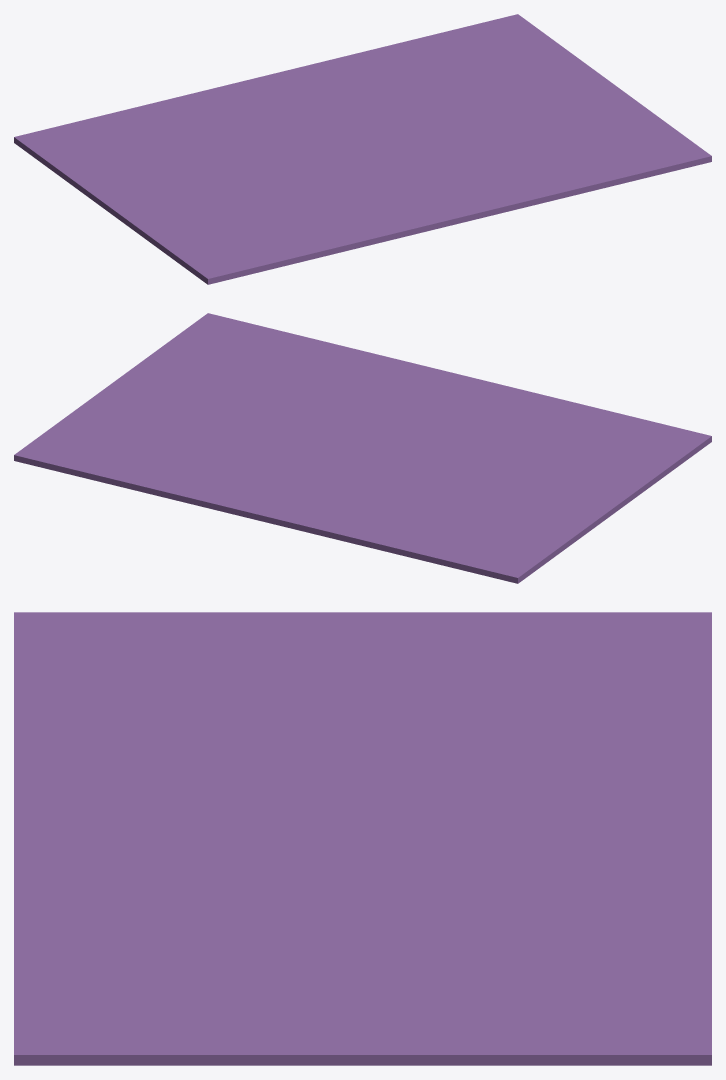
Rendered from Floor_x6_Lod0.fbx.
The picture shows the model from 3 angles, top to bottom: view 1: azimuth 30°, elevation 25°; view 2: azimuth 150°, elevation 25°; view 3: azimuth 270°, elevation 25°; orthographic projection. The views are drawn at different scales.
Parts seen in each view (by area): view 1: Floor_x6_Lod0; view 2: Floor_x6_Lod0; view 3: Floor_x6_Lod0.
Part boxes in pixels (left/top/right/bottom): Floor_x6_Lod0: left=14, top=14, right=711, bottom=284; Floor_x6_Lod0: left=14, top=313, right=711, bottom=583; Floor_x6_Lod0: left=14, top=612, right=711, bottom=1065.
Bounding box in the file's own units: 900 × 10 × 600.
